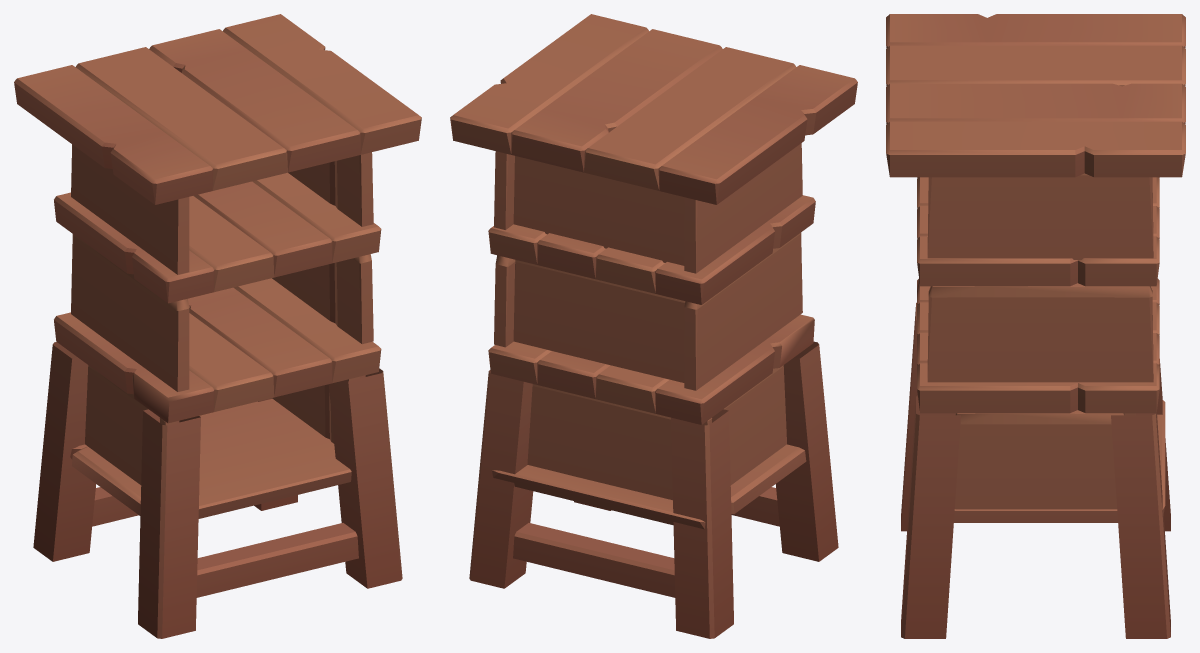
The model's file is cabinet.glb.
The picture shows the model from 3 angles, left to right: view 1: azimuth 30°, elevation 25°; view 2: azimuth 150°, elevation 25°; view 3: azimuth 270°, elevation 25°; orthographic projection. The views are drawn at different scales.
Visible parts, largest first — view 1: drawer_cabinet; view 2: drawer_cabinet; view 3: drawer_cabinet.
Boxes of the visible parts, x1,y1,x2,y2 form: drawer_cabinet: (14,14,421,638); drawer_cabinet: (450,14,857,638); drawer_cabinet: (886,14,1185,638).
Size of the model in its own units: 2.2 by 3.63 by 2.
Materials: 1 (1 with a texture image).
